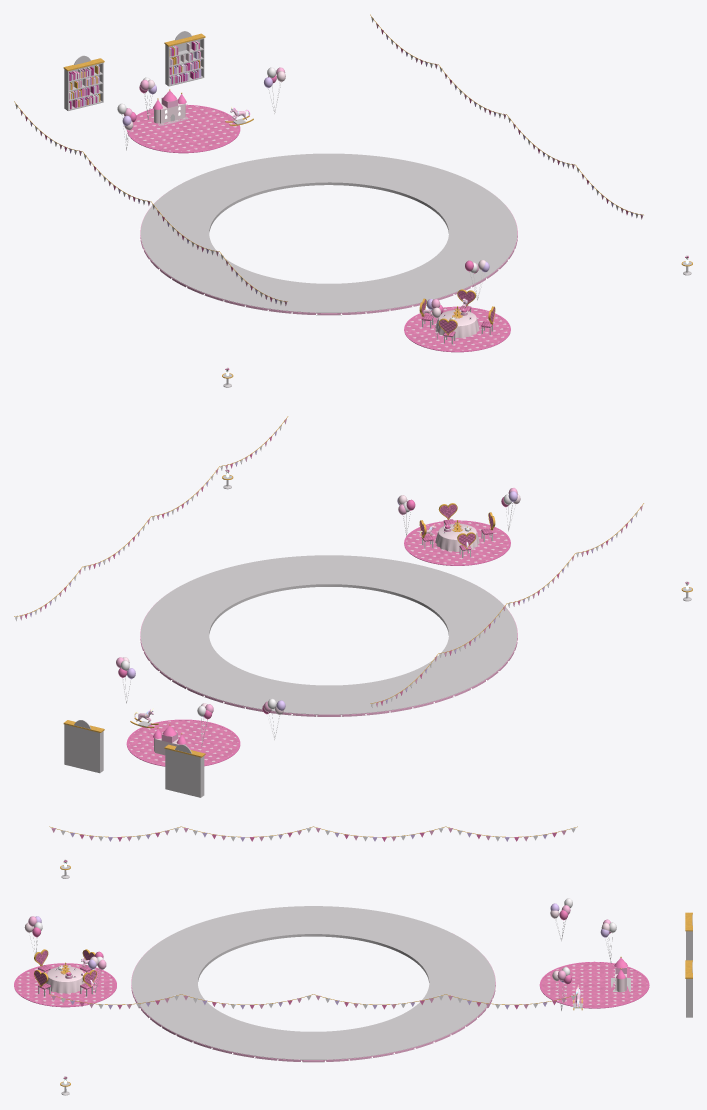
Rendered from citadel_playroom.glb.
The picture shows the model from 3 angles, top to bottom: view 1: azimuth 30°, elevation 25°; view 2: azimuth 150°, elevation 25°; view 3: azimuth 270°, elevation 25°; orthographic projection. The views are drawn at different scales.
Parts seen in each view (by area): view 1: playroom_white_wood, playroom_carpet, playroom_satin_pink, playroom_gold, playroom_satin_blush, playroom_satin_rose, playroom_satin_white, playroom_satin_lilac, playroom_tufted, playroom_velvet; view 2: playroom_white_wood, playroom_carpet, playroom_satin_pink, playroom_satin_rose, playroom_gold, playroom_satin_blush, playroom_satin_white, playroom_tufted; view 3: playroom_white_wood, playroom_carpet, playroom_satin_pink, playroom_satin_rose, playroom_gold, playroom_satin_blush, playroom_satin_white, playroom_satin_lilac, playroom_tufted.
Boxes of the visible parts, x1,y1,x2,y2 form: playroom_white_wood: [64, 31, 691, 387]; playroom_carpet: [129, 105, 508, 350]; playroom_satin_pink: [20, 23, 688, 369]; playroom_gold: [14, 14, 692, 378]; playroom_satin_blush: [72, 43, 688, 371]; playroom_satin_rose: [25, 29, 688, 369]; playroom_satin_white: [15, 17, 687, 368]; playroom_satin_lilac: [30, 34, 633, 317]; playroom_tufted: [421, 291, 494, 336]; playroom_velvet: [69, 41, 199, 109]; playroom_white_wood: [64, 475, 691, 797]; playroom_carpet: [128, 521, 508, 765]; playroom_satin_pink: [20, 418, 688, 742]; playroom_satin_rose: [25, 436, 688, 766]; playroom_gold: [14, 416, 692, 757]; playroom_satin_blush: [123, 471, 689, 755]; playroom_satin_white: [15, 425, 687, 746]; playroom_tufted: [420, 504, 493, 550]; playroom_white_wood: [38, 865, 692, 1095]; playroom_carpet: [16, 962, 647, 1007]; playroom_satin_pink: [28, 828, 626, 1078]; playroom_satin_rose: [14, 832, 649, 1078]; playroom_gold: [34, 826, 692, 1086]; playroom_satin_blush: [24, 861, 626, 1078]; playroom_satin_white: [29, 828, 616, 1077]; playroom_satin_lilac: [35, 832, 609, 1009]; playroom_tufted: [34, 950, 96, 989].
Size of the model in its own units: 31.66 by 5.06 by 41.07.
24 materials, 4 textured.
